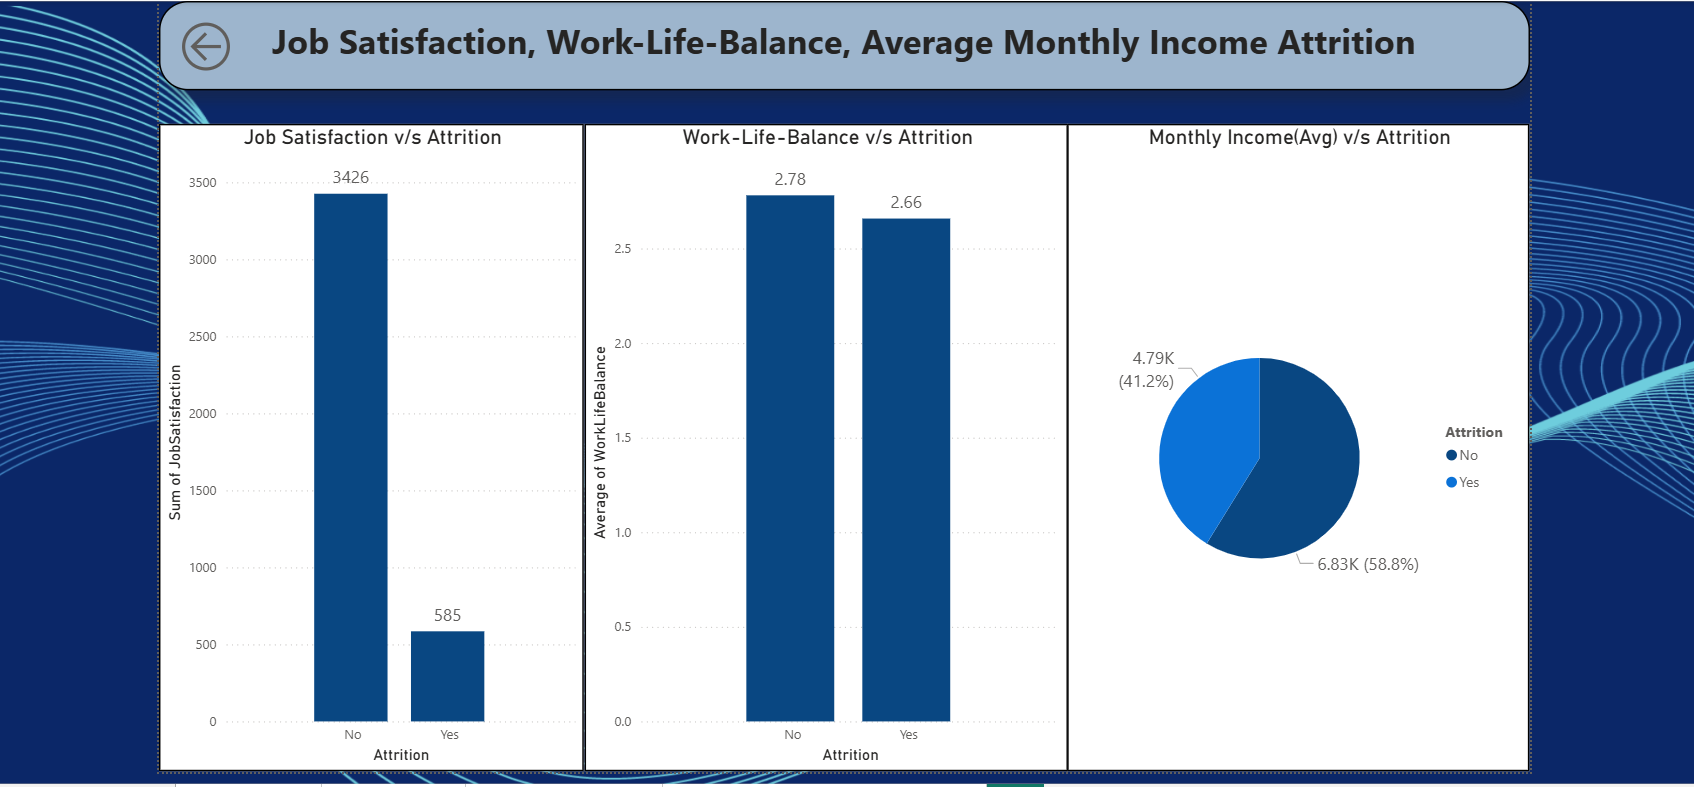

What the dashboard file says about the page in this screenshot:
{"tool":"powerbi","page":{"name":"Job Satisfaction, Monthly Income","canvas":[1280,720],"ordinal":3},"visuals":[{"type":"clusteredColumnChart","title":"Job Satisfaction v/s Attrition","fields":{"Category":["HR_Analytics.Attrition"],"Y":["Sum(HR_Analytics.JobSatisfaction)"]},"box":[0,115.1,396.7,604.2],"z":0},{"type":"pieChart","title":"Monthly Income(Avg) v/s Attrition","fields":{"Category":["HR_Analytics.Attrition"],"Y":["Avg(HR_Analytics.MonthlyIncome)"]},"box":[848,115.1,431.5,604.2],"z":1000},{"type":"textbox","box":[0,0,1280,83.3],"z":2000},{"type":"clusteredColumnChart","title":"Work-Life-Balance v/s Attrition","fields":{"Category":["HR_Analytics.Attrition"],"Y":["Avg(HR_Analytics.WorkLifeBalance)"]},"box":[396.7,115.1,451.2,604.2],"z":3000},{"type":"actionButton","box":[15.1,13.6,71.2,57.5],"z":4000}]}

Visuals, with their boxes in screenshot pixels (x1, y1, x2, y2):
"Job Satisfaction v/s Attrition" clusteredColumnChart: pyautogui.locateOnScreen(150, 119, 577, 769)
"Monthly Income(Avg) v/s Attrition" pieChart: pyautogui.locateOnScreen(1062, 119, 1526, 769)
textbox: pyautogui.locateOnScreen(150, 0, 1527, 85)
"Work-Life-Balance v/s Attrition" clusteredColumnChart: pyautogui.locateOnScreen(577, 119, 1062, 769)
actionButton: pyautogui.locateOnScreen(166, 10, 243, 72)
